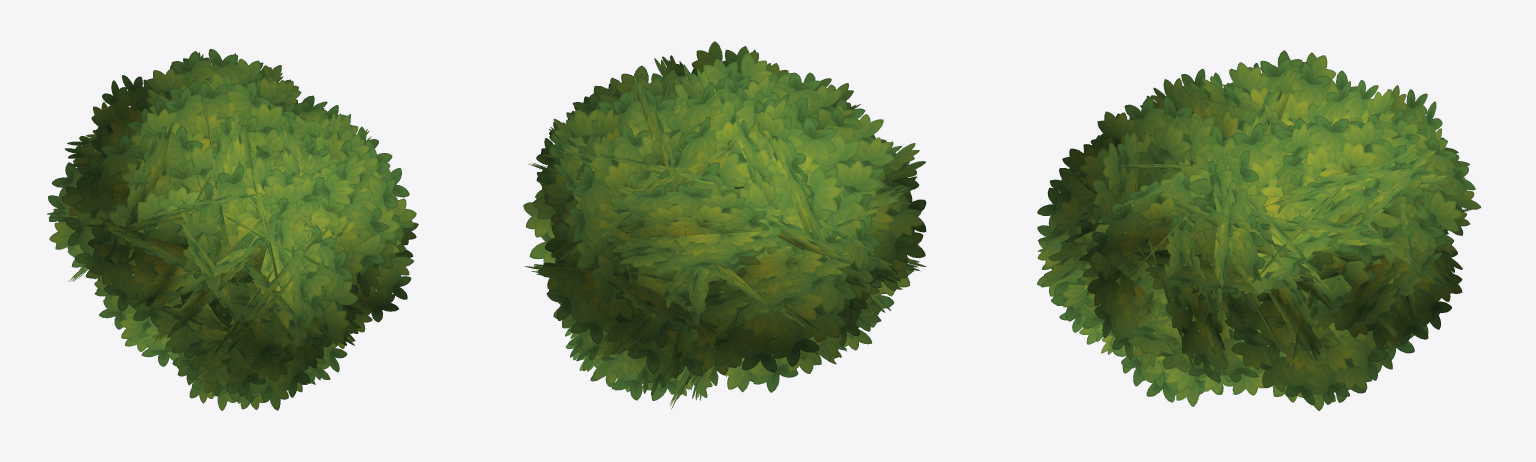
File: Beach_Bush_1.fbx
3 renders of one model, left to right at view 1: azimuth 30°, elevation 25°; view 2: azimuth 150°, elevation 25°; view 3: azimuth 270°, elevation 25°, orthographic. The views are drawn at different scales.
Visible parts, largest first — view 1: Beach_1.100; view 2: Beach_1.100; view 3: Beach_1.100.
Boxes of the visible parts, x1,y1,x2,y2 form: Beach_1.100: [47, 49, 418, 410]; Beach_1.100: [523, 41, 926, 409]; Beach_1.100: [1037, 50, 1481, 410].
Bounding box in the file's own units: 192 × 185 × 220.
